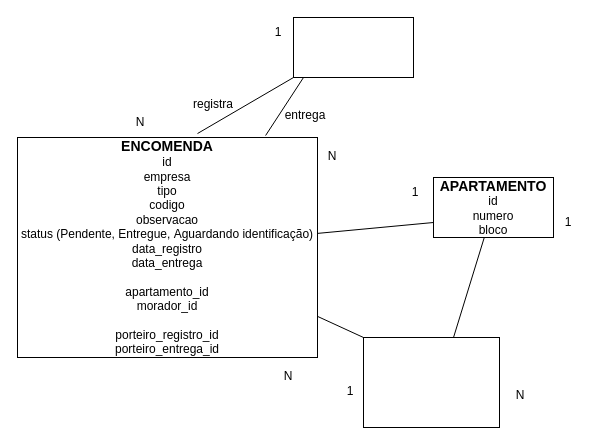
Image size: 601x445. Some labels were removed from this diagram. The centre of each missing label's shape, as x and y in pixels:
"MORADOR id nome telefone recebe_notificacao apartamento_id" belongs at [431,382].
"PORTEIRO id nome" belongs at [353,47].
